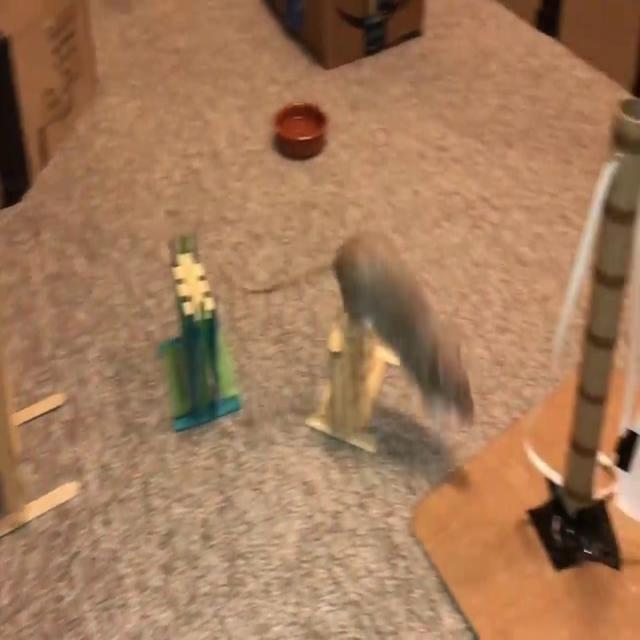rat: (244, 228, 473, 421)
